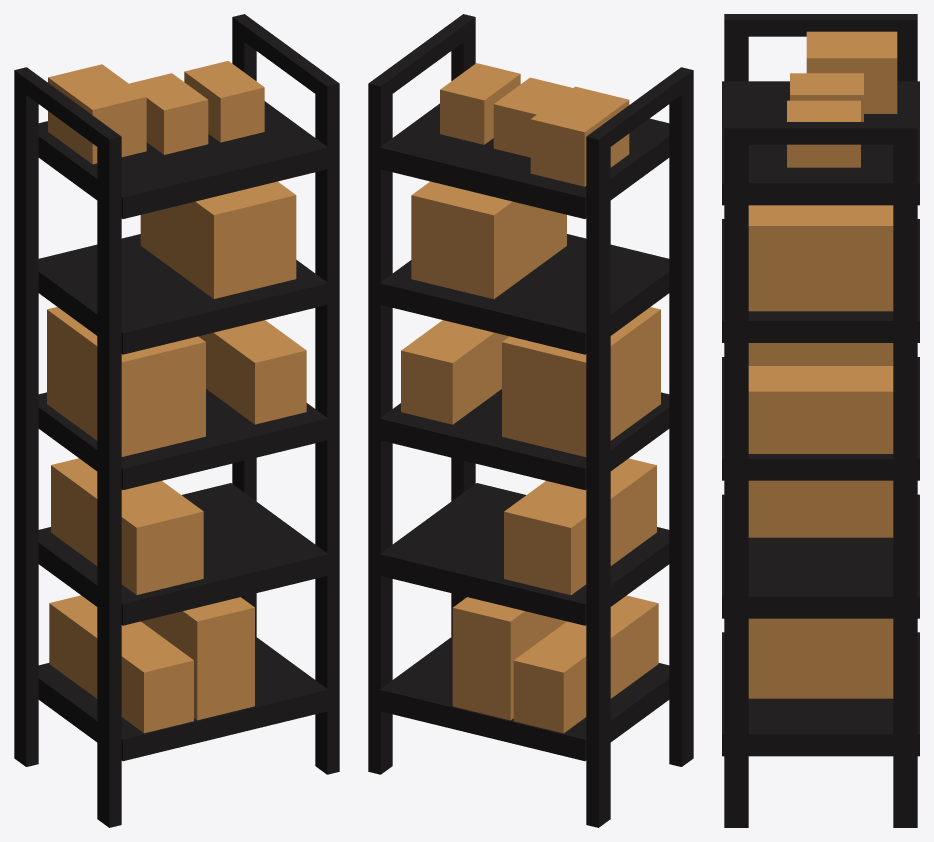
File: Shelves_Narrow.fbx
3 views of the same model, side by side, from view 1: azimuth 30°, elevation 25°; view 2: azimuth 150°, elevation 25°; view 3: azimuth 270°, elevation 25° (orthographic).
Parts seen in each view (by area): view 1: Narrow; view 2: Narrow; view 3: Narrow.
Part boxes in pixels (left/top/right/bottom): Narrow: left=14, top=14, right=339, bottom=827; Narrow: left=368, top=14, right=693, bottom=827; Narrow: left=722, top=14, right=919, bottom=827.
Size of the model in its own units: 56 by 160 by 41.
